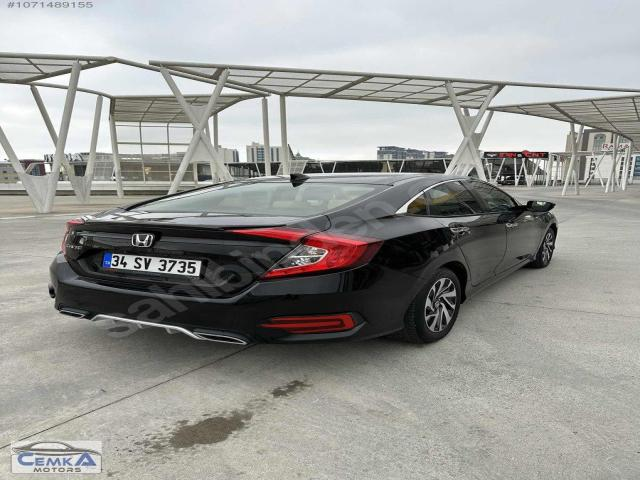plaka: (102, 253, 201, 276)
